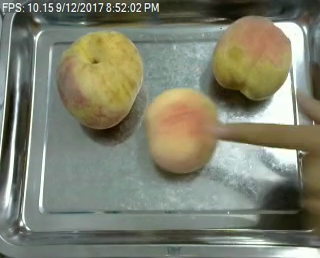Peach: (56, 29, 144, 127), (211, 15, 293, 100), (145, 87, 219, 173)
